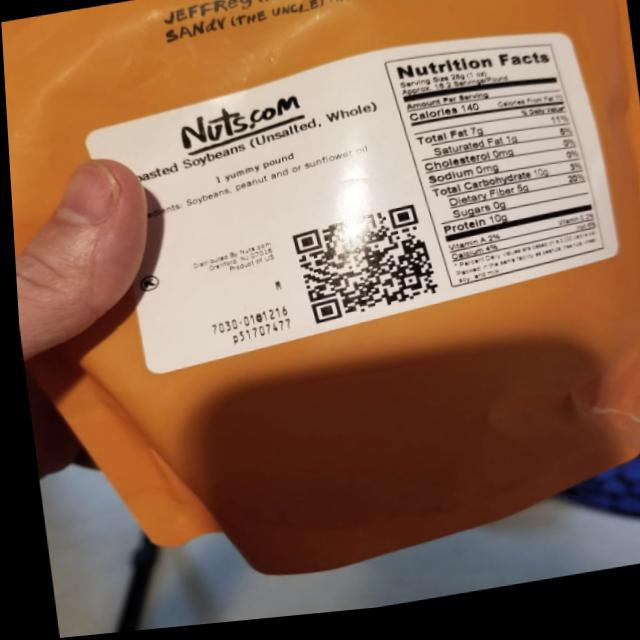QR_CODE: (275, 197, 448, 345)
